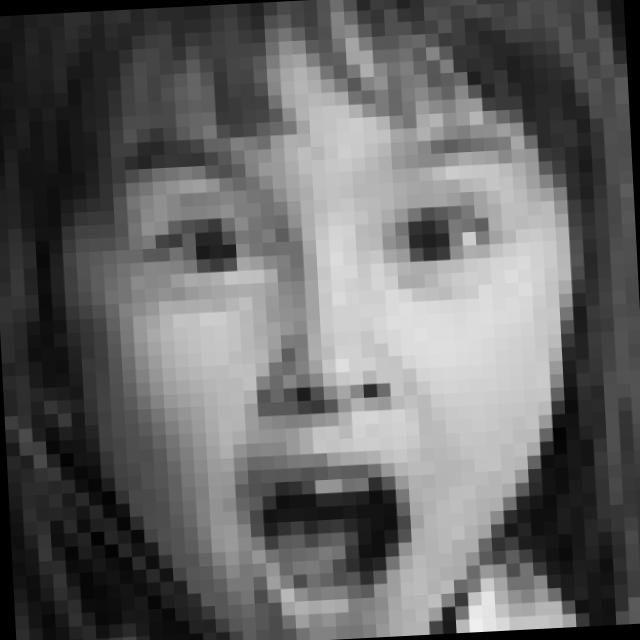surprise: (106, 111, 559, 640)
